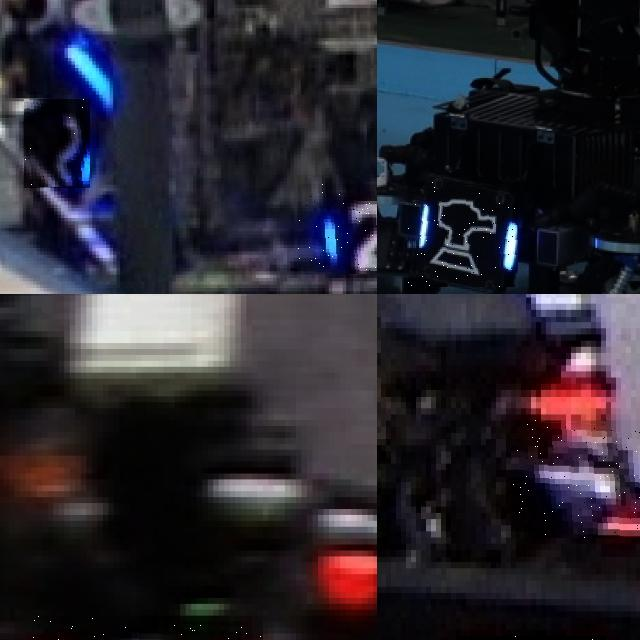B2: (297, 184, 377, 274), (24, 100, 90, 190)
Bs: (408, 182, 518, 287)
R1: (14, 615, 262, 640)
R4: (511, 420, 640, 537)
